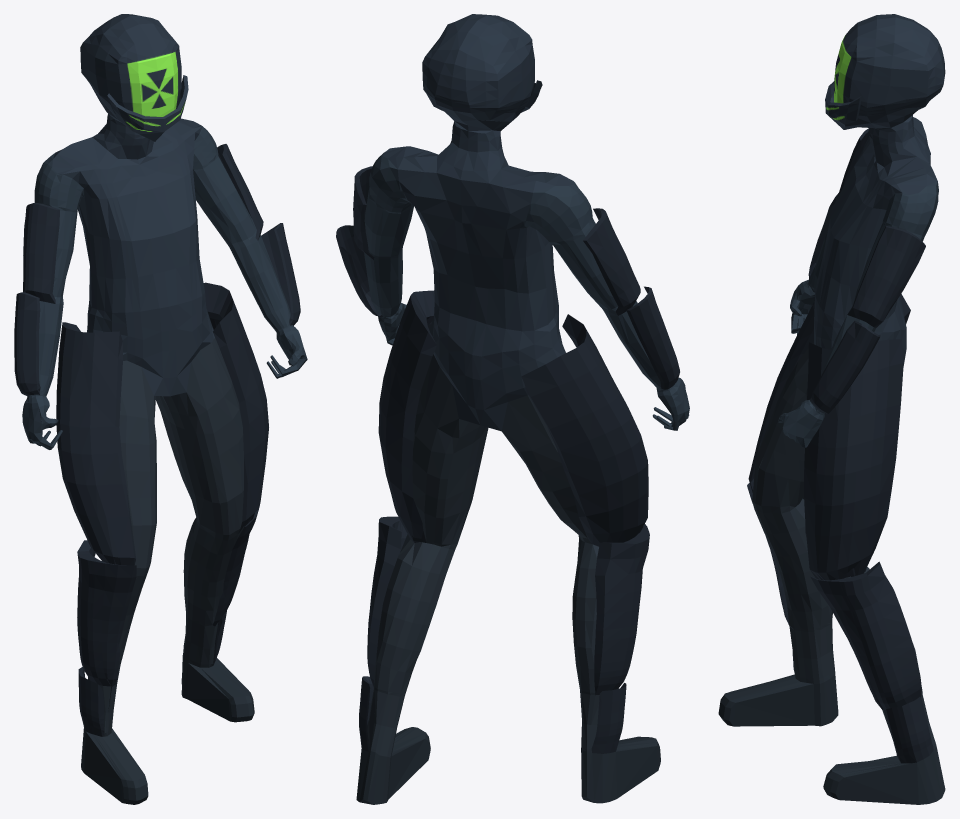
Rendered from Bastion_Stun_000015.obj.
3 views of the same model, side by side, from view 1: azimuth 30°, elevation 25°; view 2: azimuth 150°, elevation 25°; view 3: azimuth 270°, elevation 25° (orthographic). The views are drawn at different scales.
Visible parts, largest first — view 1: Cube.002; view 2: Cube.002; view 3: Cube.002.
Boxes of the visible parts, x1=… form: Cube.002: x1=14, y1=14, x2=307, y2=804; Cube.002: x1=336, y1=14, x2=689, y2=804; Cube.002: x1=718, y1=14, x2=945, y2=804.
Size of the model in its own units: 1.6 by 3.79 by 1.05.
